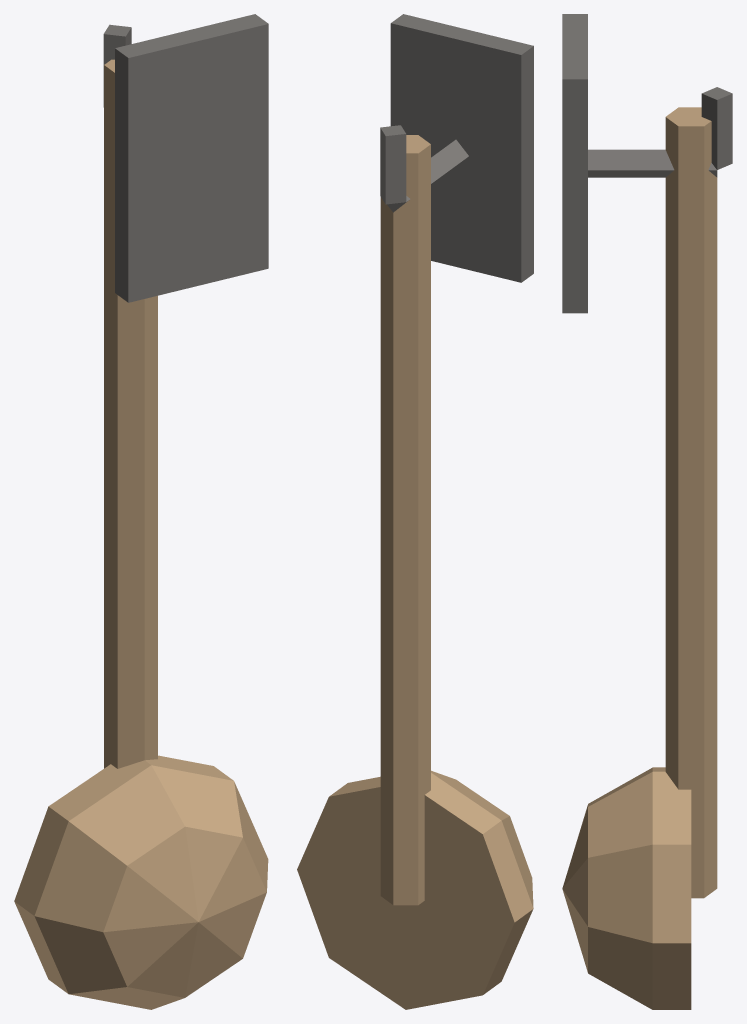
The model's file is prop-ladle-hook.fbx.
3 views of the same model, side by side, from view 1: azimuth 30°, elevation 25°; view 2: azimuth 150°, elevation 25°; view 3: azimuth 270°, elevation 25° (orthographic). The views are drawn at different scales.
Parts seen in each view (by area): view 1: prop-ladle-hook; view 2: prop-ladle-hook; view 3: prop-ladle-hook.
Part boxes in pixels (x1,y1,x2,y2): prop-ladle-hook: [14, 14, 268, 1009]; prop-ladle-hook: [297, 14, 533, 1009]; prop-ladle-hook: [562, 14, 732, 1009].
Size of the model in its own units: 0.1 by 0.41 by 0.066.
